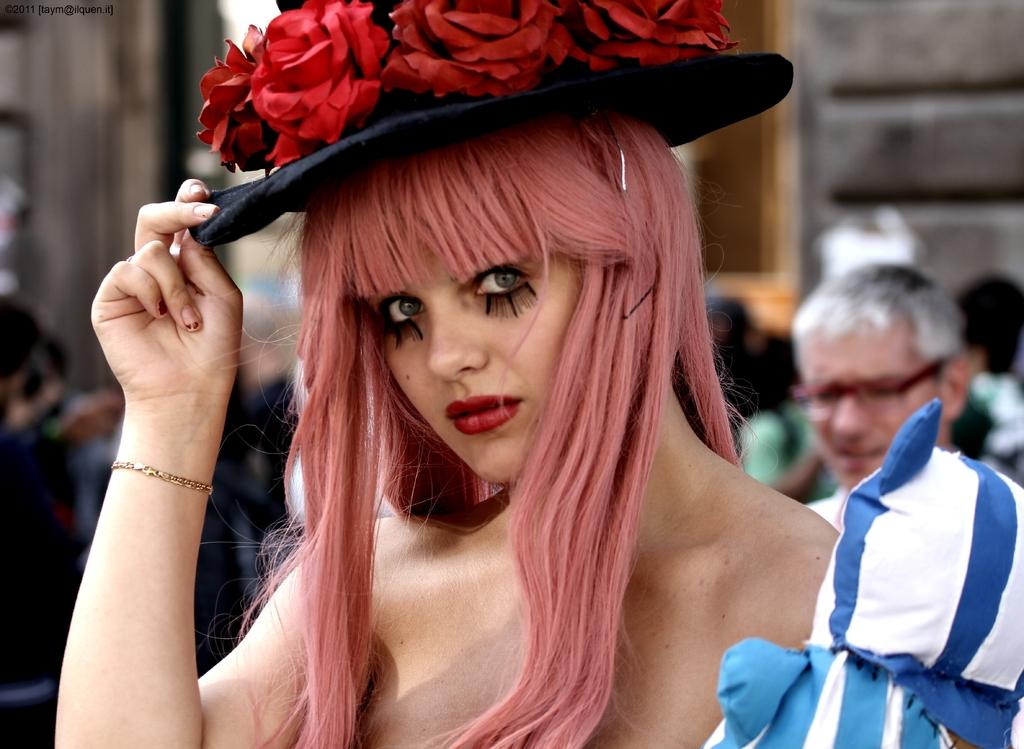Hat: (190, 0, 797, 245)
